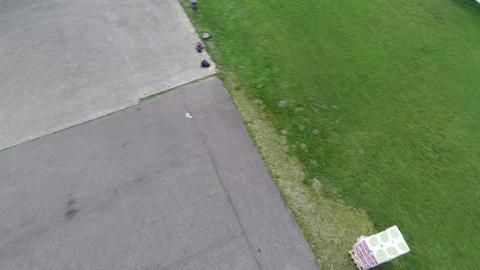RockwoolPallet: (352, 224, 411, 270)
